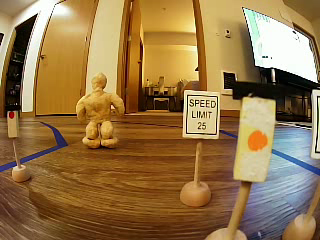Red traffic light: (2, 99, 24, 139)
person: (77, 70, 125, 151)
speed limit 25: (178, 87, 219, 140)
yellow traffic light: (229, 79, 286, 183)
